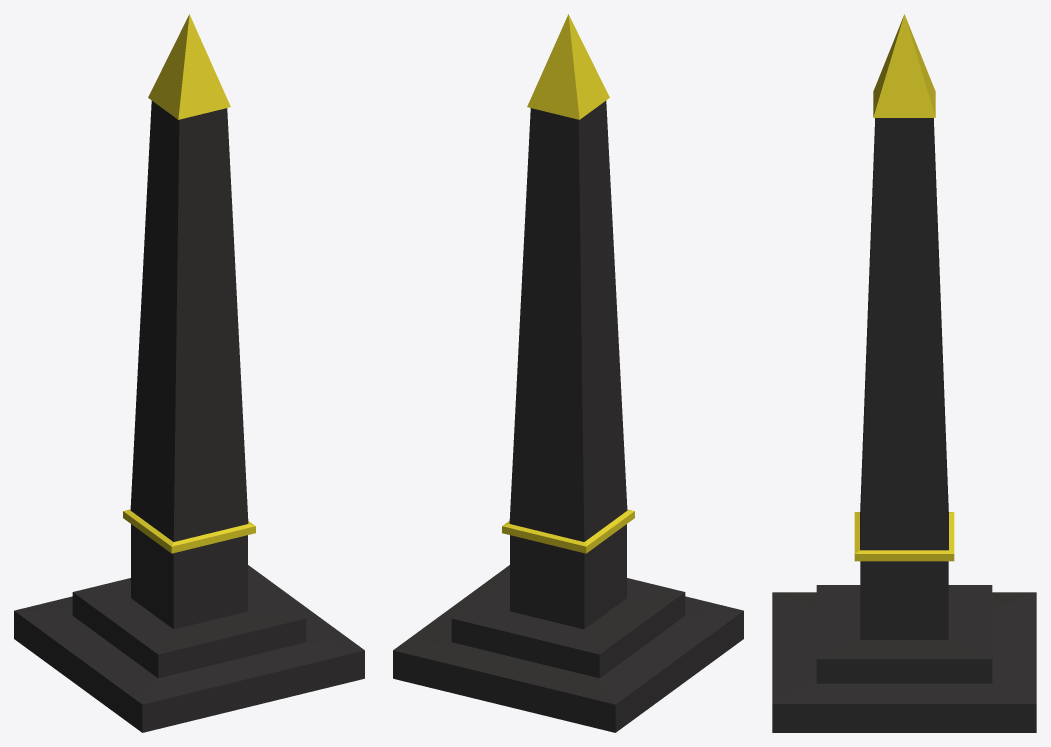
Rendered from Obelisk.glb.
3 views of the same model, side by side, from view 1: azimuth 30°, elevation 25°; view 2: azimuth 150°, elevation 25°; view 3: azimuth 270°, elevation 25° (orthographic). The views are drawn at different scales.
Parts seen in each view (by area): view 1: Obelisk; view 2: Obelisk; view 3: Obelisk.
Part boxes in pixels (x1,y1,x2,y2): Obelisk: [14, 14, 364, 732]; Obelisk: [393, 14, 743, 732]; Obelisk: [772, 14, 1036, 732].
Size of the model in its own units: 6 by 16.61 by 6.
